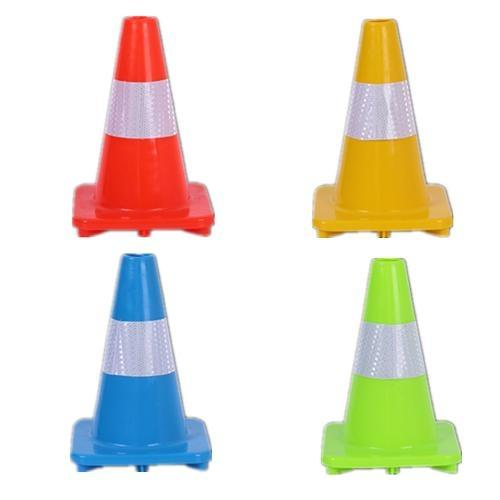cone_barrel: (305, 23, 453, 234), (316, 262, 464, 470), (66, 257, 211, 466), (69, 22, 212, 233)
